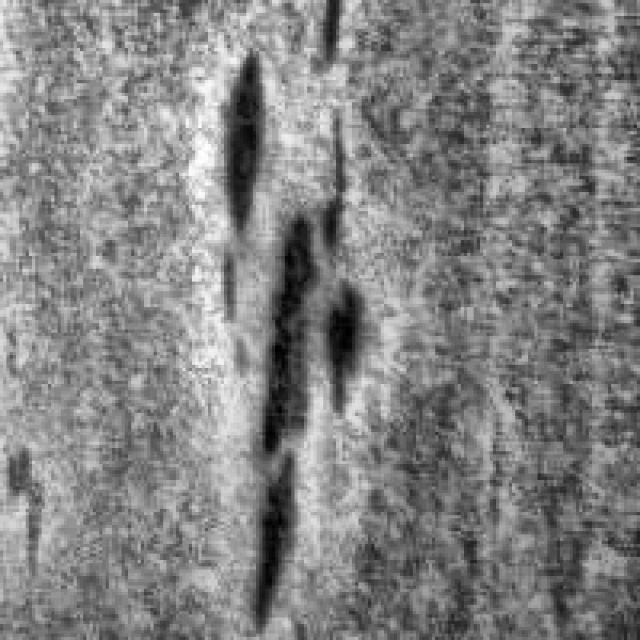Patches: (240, 108, 362, 628), (204, 45, 276, 326), (307, 272, 371, 419), (4, 442, 70, 566), (313, 0, 348, 70)
